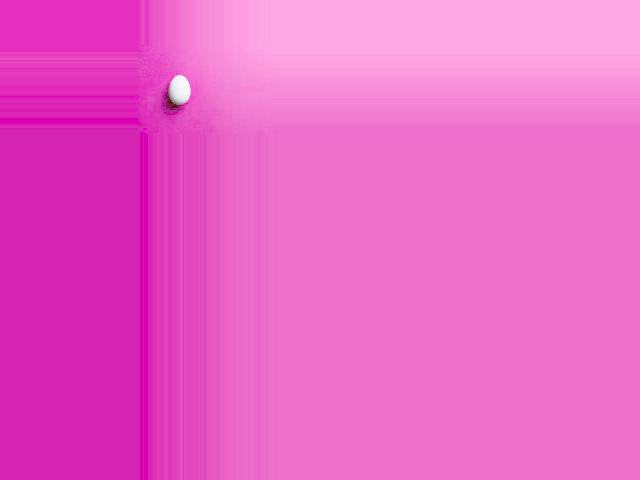egg: (169, 75, 191, 105)
